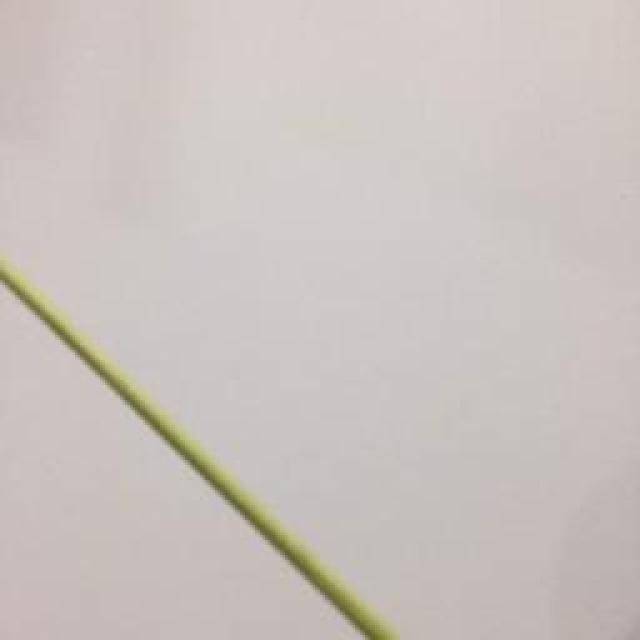Healthy-Plant: (0, 261, 394, 640)
